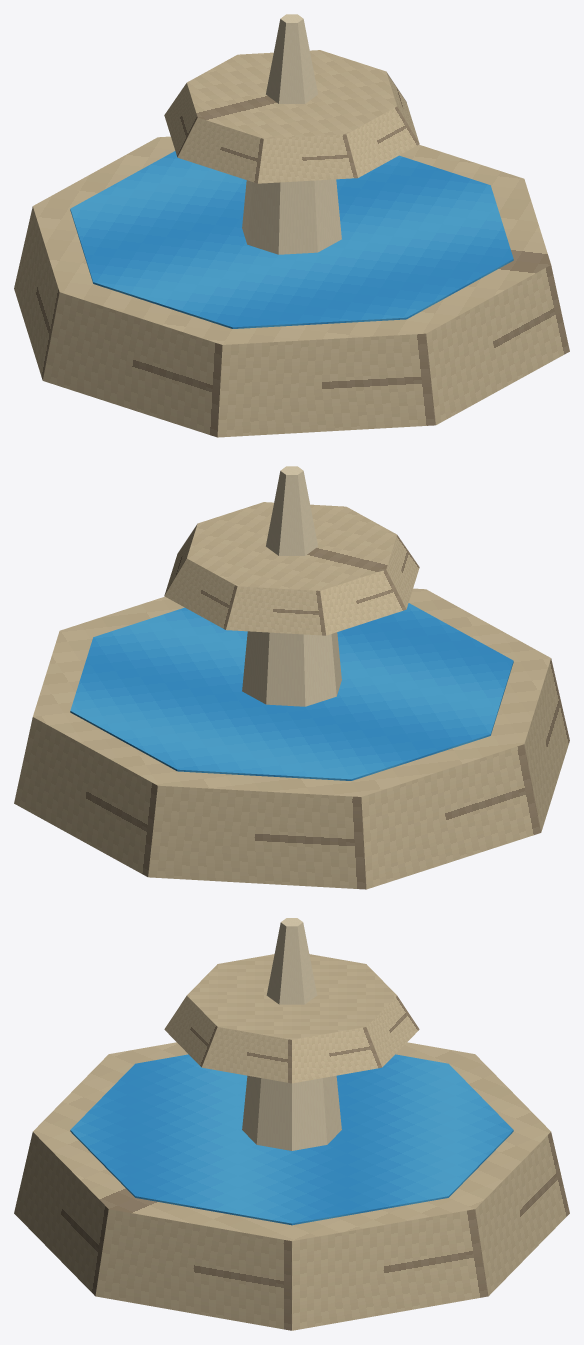
File: fountain-lod0.glb
3 views of the same model, one above another, from view 1: azimuth 30°, elevation 25°; view 2: azimuth 150°, elevation 25°; view 3: azimuth 270°, elevation 25° (orthographic). The views are drawn at different scales.
Visible parts, largest first — view 1: fountain-lod0; view 2: fountain-lod0; view 3: fountain-lod0.
Part boxes in pixels (bbox=[...]): fountain-lod0: bbox=[14, 14, 569, 437]; fountain-lod0: bbox=[14, 466, 569, 889]; fountain-lod0: bbox=[14, 918, 569, 1330].
Size of the model in its own units: 2.96 by 1.71 by 2.96.
1 material, 1 textured.
